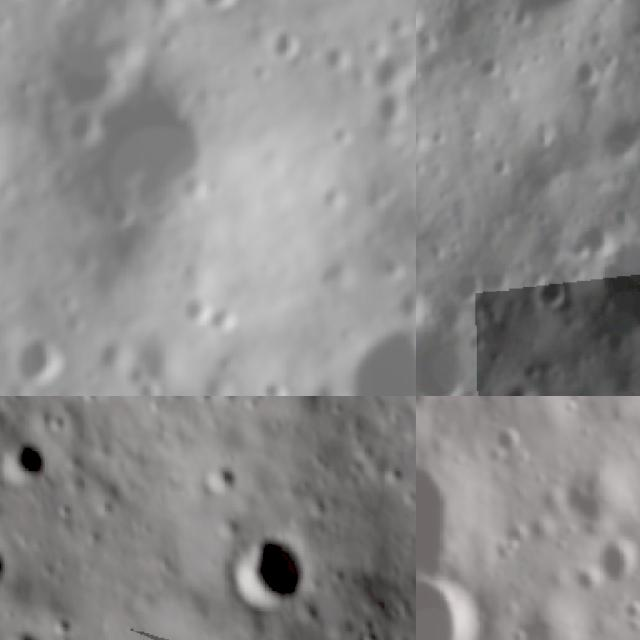crater: (80, 75, 244, 259), (216, 516, 324, 626), (31, 7, 142, 112), (3, 315, 87, 396), (336, 321, 416, 396), (416, 452, 464, 573), (416, 564, 489, 640), (0, 432, 58, 496), (416, 331, 472, 396), (597, 233, 640, 313), (188, 451, 249, 504), (206, 292, 266, 336), (174, 278, 225, 329), (597, 537, 639, 593), (516, 0, 590, 30), (268, 20, 317, 65), (528, 266, 572, 314), (487, 426, 529, 474), (602, 117, 640, 166), (372, 84, 416, 126), (577, 212, 612, 259), (571, 52, 607, 90), (453, 266, 485, 302), (0, 531, 15, 600), (0, 617, 45, 640), (200, 0, 254, 18), (499, 377, 545, 396), (480, 48, 504, 82), (416, 402, 428, 456)
